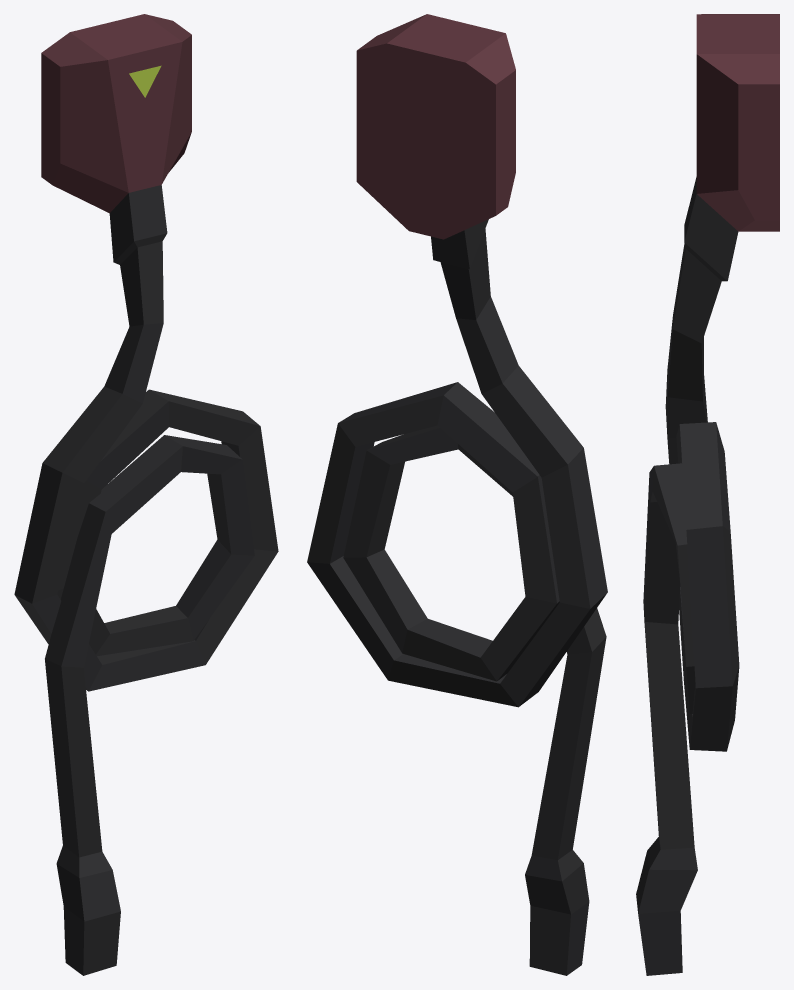
Rendered from wallbox-hose.fbx.
3 views of the same model, side by side, from view 1: azimuth 30°, elevation 25°; view 2: azimuth 150°, elevation 25°; view 3: azimuth 270°, elevation 25° (orthographic). The views are drawn at different scales.
Visible parts, largest first — view 1: wallbox-hose; view 2: wallbox-hose; view 3: wallbox-hose.
Part boxes in pixels (<box>): wallbox-hose: <box>14,14,278,975</box>; wallbox-hose: <box>307,14,607,975</box>; wallbox-hose: <box>636,14,779,975</box>.
Size of the model in its own units: 0.3921 by 1.29 by 0.1727.
